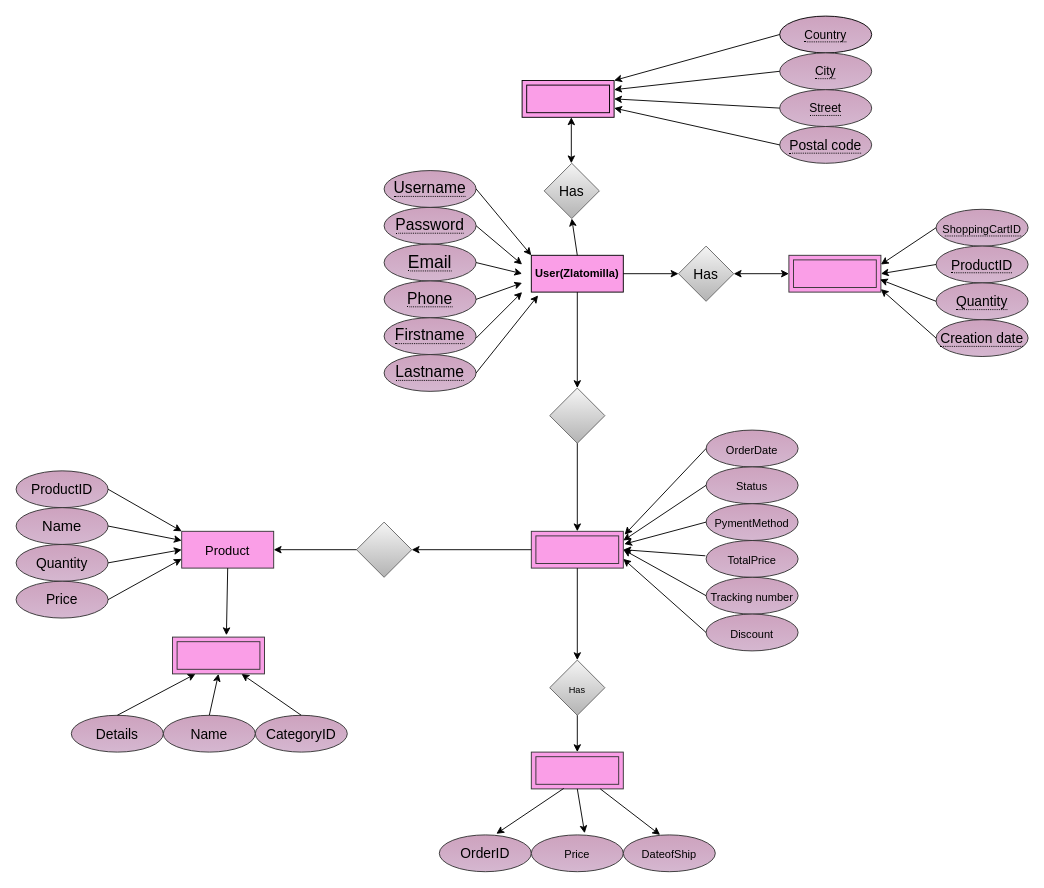
This 1044x888 diagram has some shape labels left out. Each missing label, with the centre of its shape:
"Address" belongs at point (567, 98).
"Belongs to" belongs at point (384, 549).
"Category" belongs at point (218, 655).
"Make" belongs at point (577, 415).
"Order" belongs at point (576, 549).
"OrderInfo" belongs at point (576, 770).
"ShoppingCart" belongs at point (834, 273).
